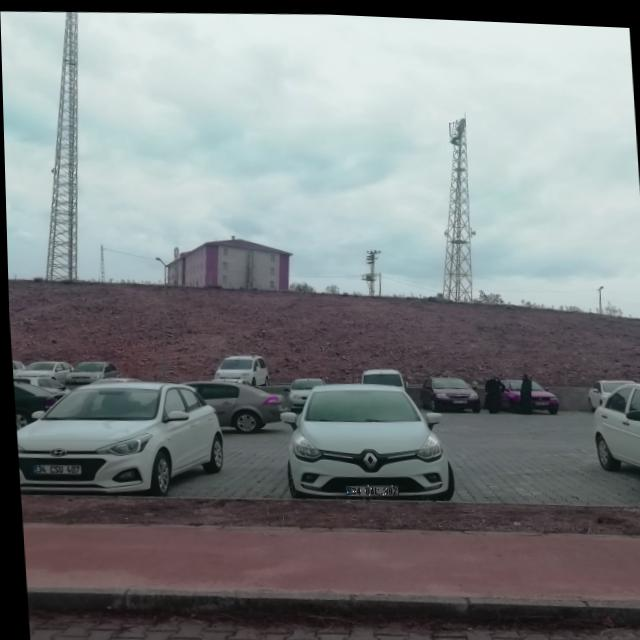license_plate: (342, 480, 396, 494), (28, 462, 78, 476)
